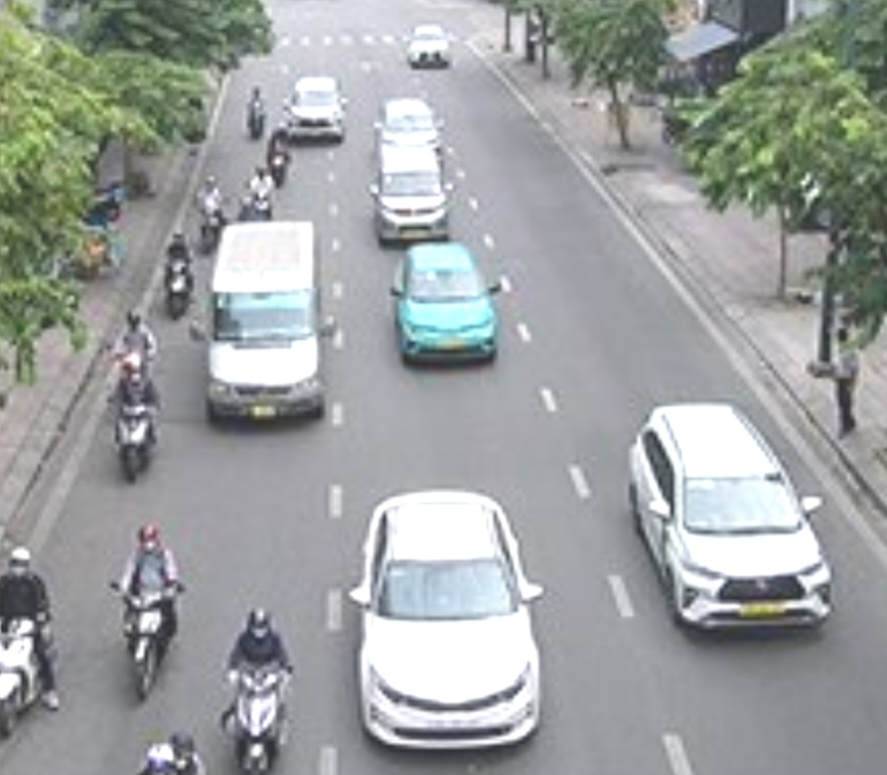car: (626, 399, 831, 631), (357, 491, 540, 746), (212, 224, 324, 424), (397, 242, 500, 367), (375, 148, 446, 244), (286, 75, 344, 144), (379, 97, 442, 146), (408, 23, 453, 70)
